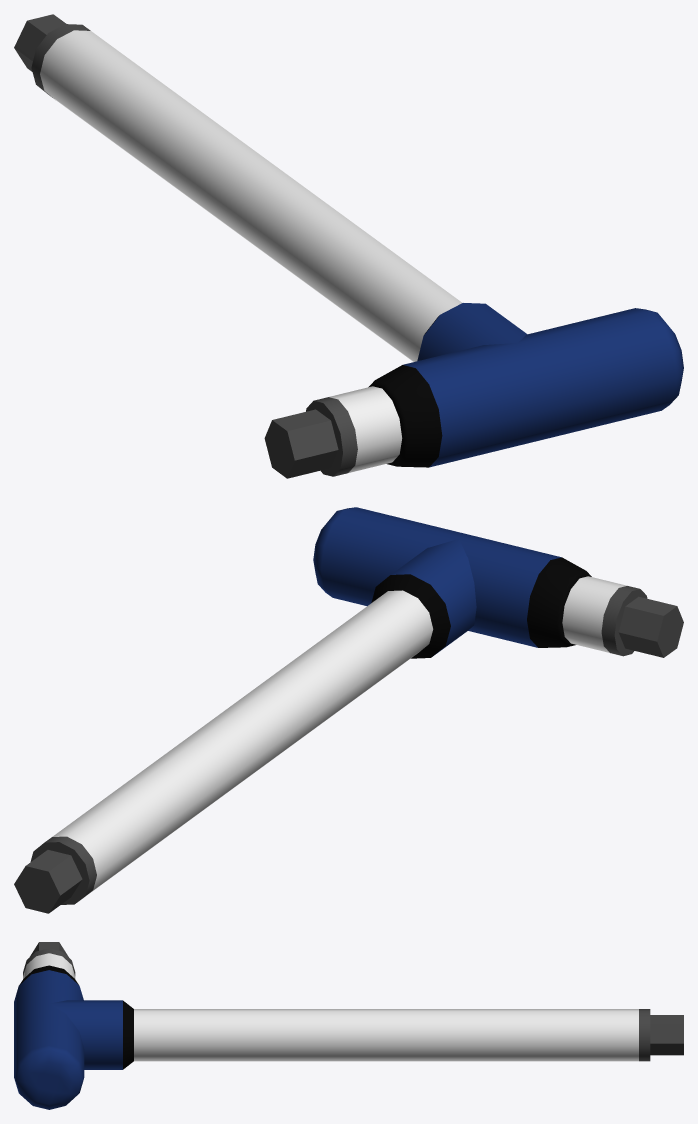
The model's file is Screw_Inner.fbx.
The picture shows the model from 3 angles, top to bottom: view 1: azimuth 30°, elevation 25°; view 2: azimuth 150°, elevation 25°; view 3: azimuth 270°, elevation 25°; orthographic projection. The views are drawn at different scales.
Visible parts, largest first — view 1: Screwdriver_Inner; view 2: Screwdriver_Inner; view 3: Screwdriver_Inner.
Boxes of the visible parts, left/top/right/bottom form: Screwdriver_Inner: left=14, top=14, right=683, bottom=478; Screwdriver_Inner: left=14, top=507, right=683, bottom=913; Screwdriver_Inner: left=14, top=942, right=683, bottom=1109.
Bounding box in the file's own units: 0.1044 × 0.0248 × 0.2358.
